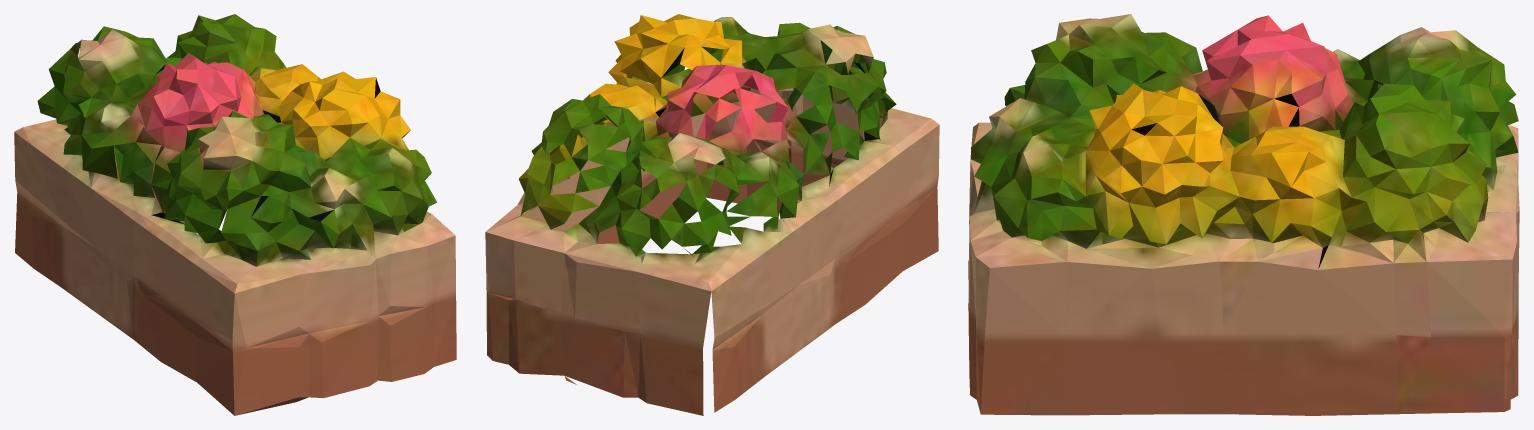
Rendered from M-5_07_planter.glb.
3 views of the same model, side by side, from view 1: azimuth 30°, elevation 25°; view 2: azimuth 150°, elevation 25°; view 3: azimuth 270°, elevation 25° (orthographic). The views are drawn at different scales.
Visible parts, largest first — view 1: loA; view 2: loA; view 3: loA.
Boxes of the visible parts, left/top/right/bottom form: loA: left=14, top=14, right=456, bottom=415; loA: left=485, top=14, right=939, bottom=415; loA: left=968, top=14, right=1519, bottom=415.
Size of the model in its own units: 1.47 by 1.41 by 2.31.
1 material, 1 textured.
